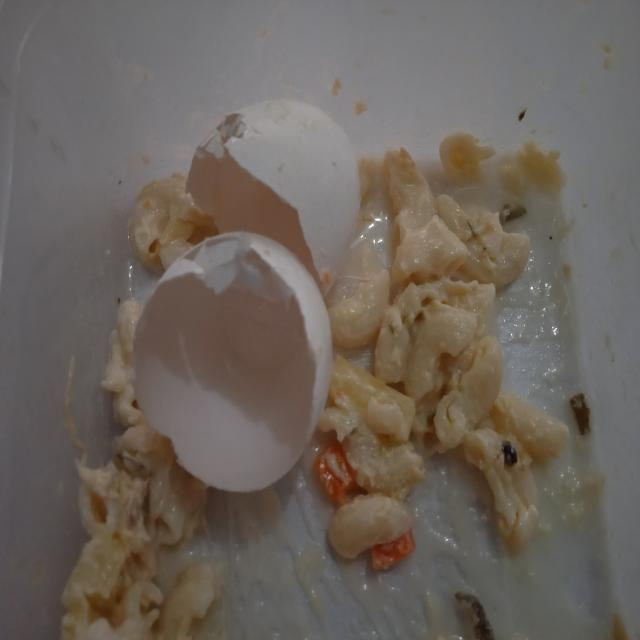egg shell: (134, 231, 334, 494), (187, 94, 361, 300)
